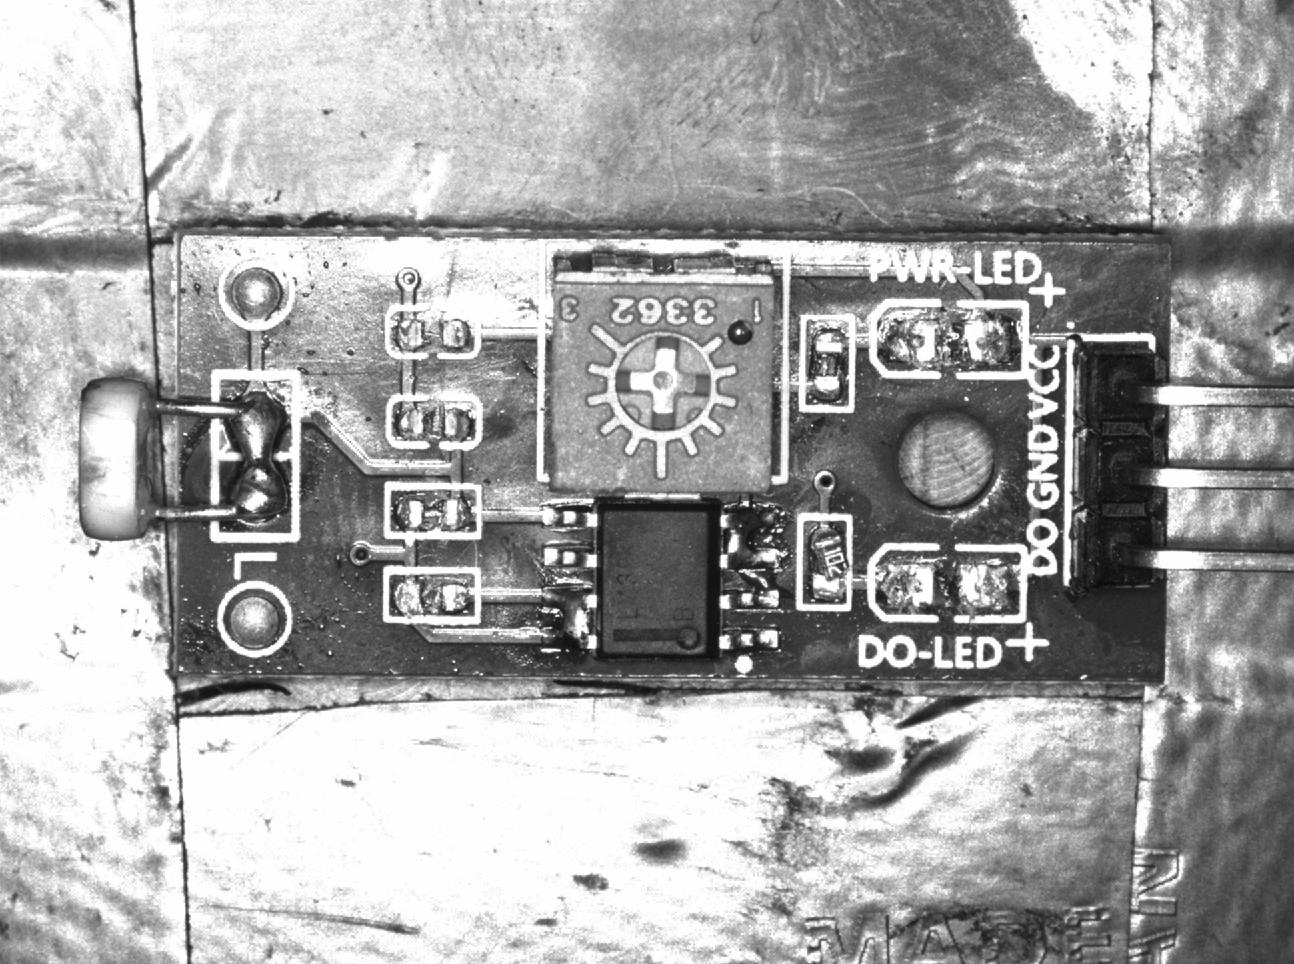bridge: (214, 375, 295, 537), (719, 504, 789, 572), (540, 583, 598, 653)
lifted: (798, 514, 852, 612)
miss: (384, 389, 480, 454), (385, 568, 483, 629), (800, 319, 855, 413), (384, 306, 476, 361), (386, 484, 478, 538)
